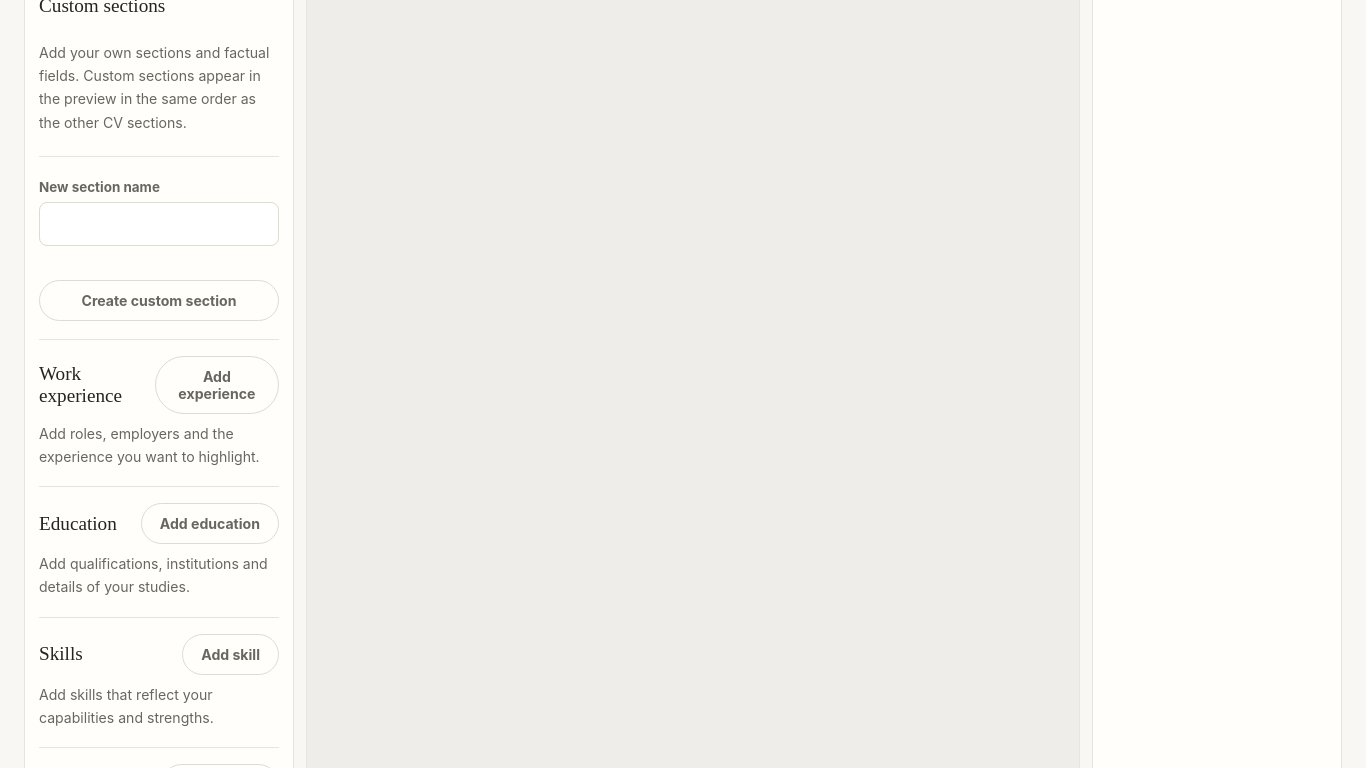
Test: work experience editor › shows field errors and does not save invalid date input
This screenshot has width=1366, height=768.
(page scrolled)
Click the button "Add experience" at (217, 385), box [155, 356, 279, 414]
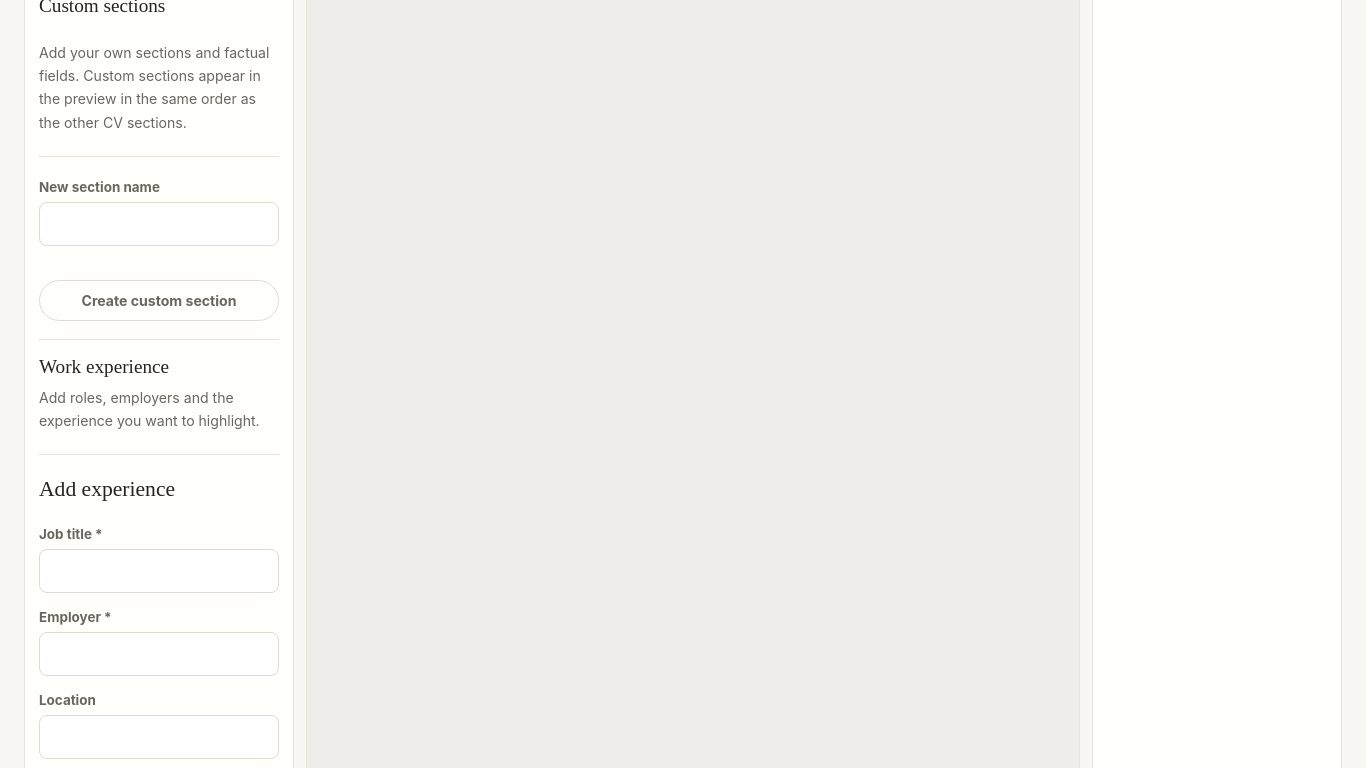
Type "Engineer" into the field labelled "Job title *" at (159, 571), box [39, 549, 279, 593]
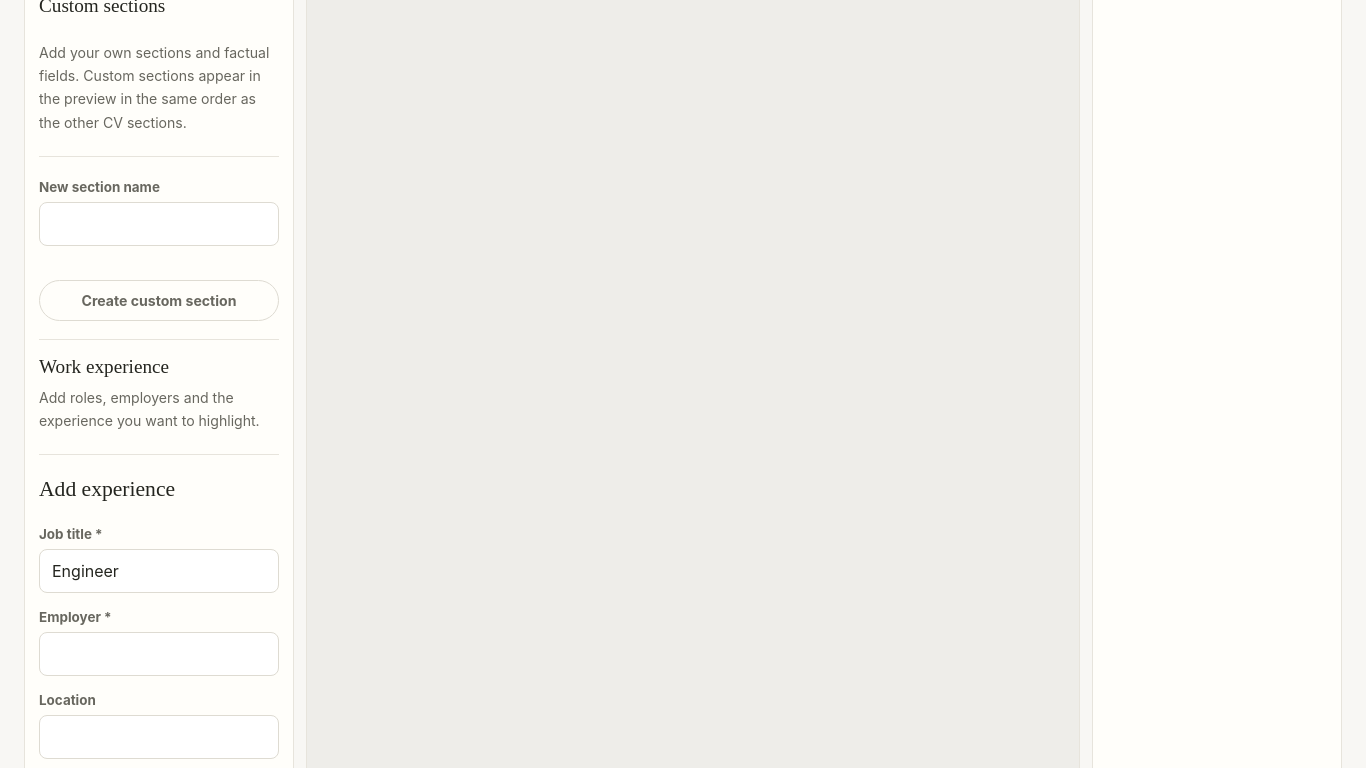
Type "Example" into the field labelled "Employer *" at (159, 654), box [39, 632, 279, 676]
(page scrolled)
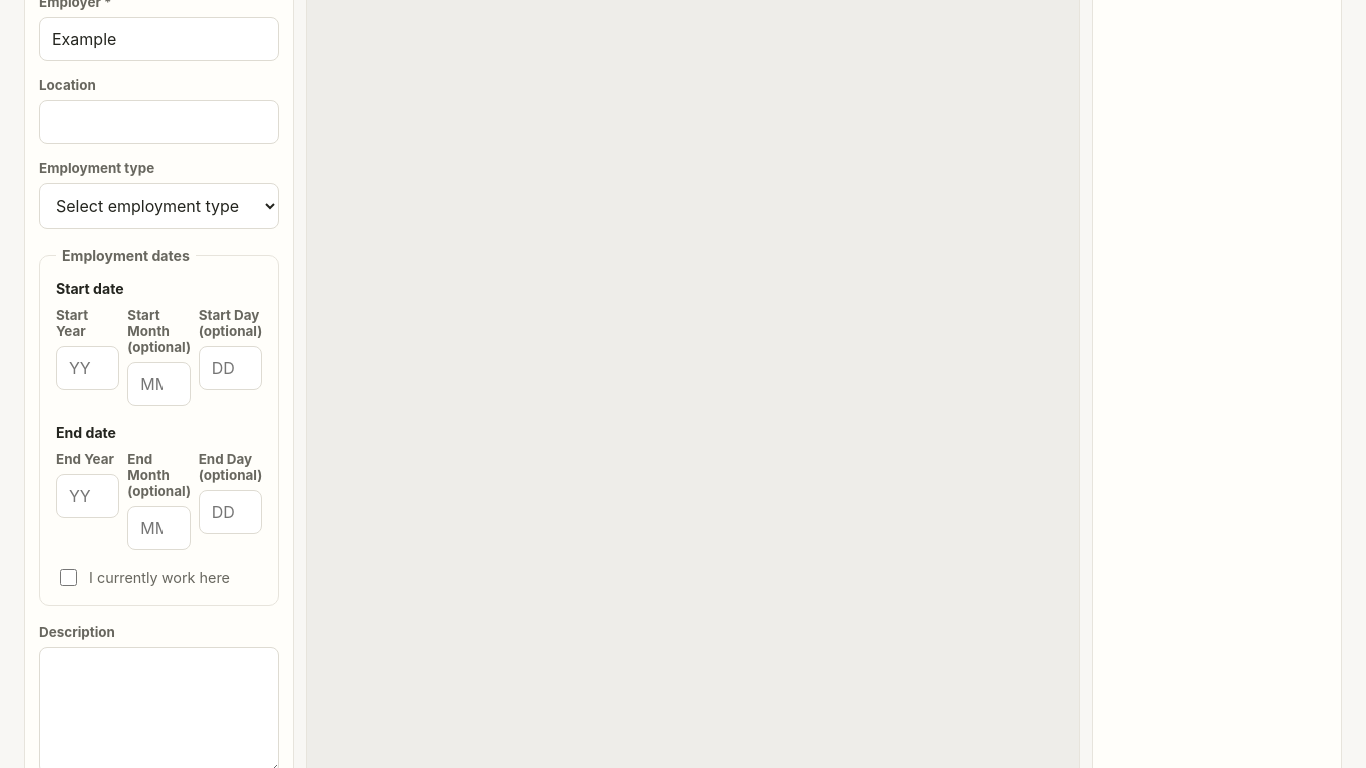
Type "13" into the number field labelled "Start Month (optional)" at (159, 384), box [127, 362, 191, 406]
(page scrolled)
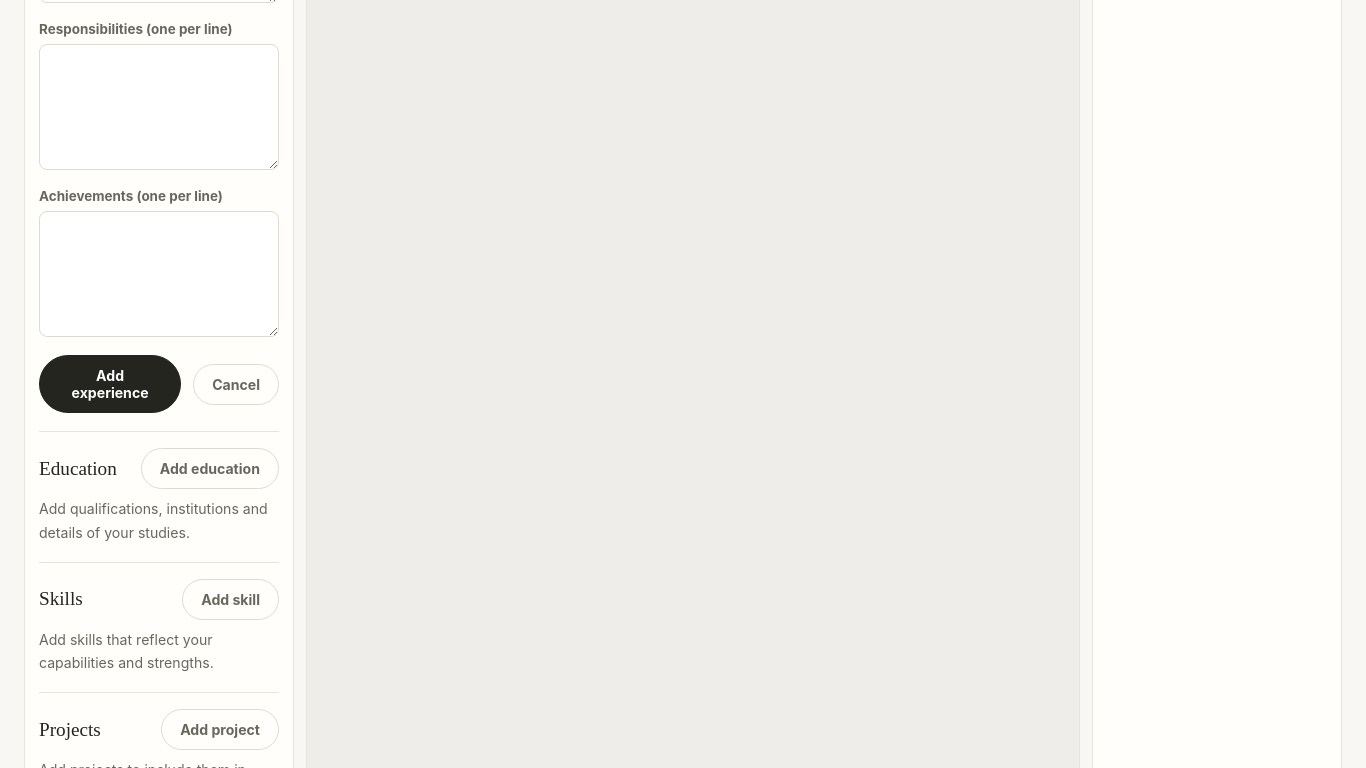
Click the button "Add experience" at (110, 384), box [39, 355, 181, 413]
(page scrolled)
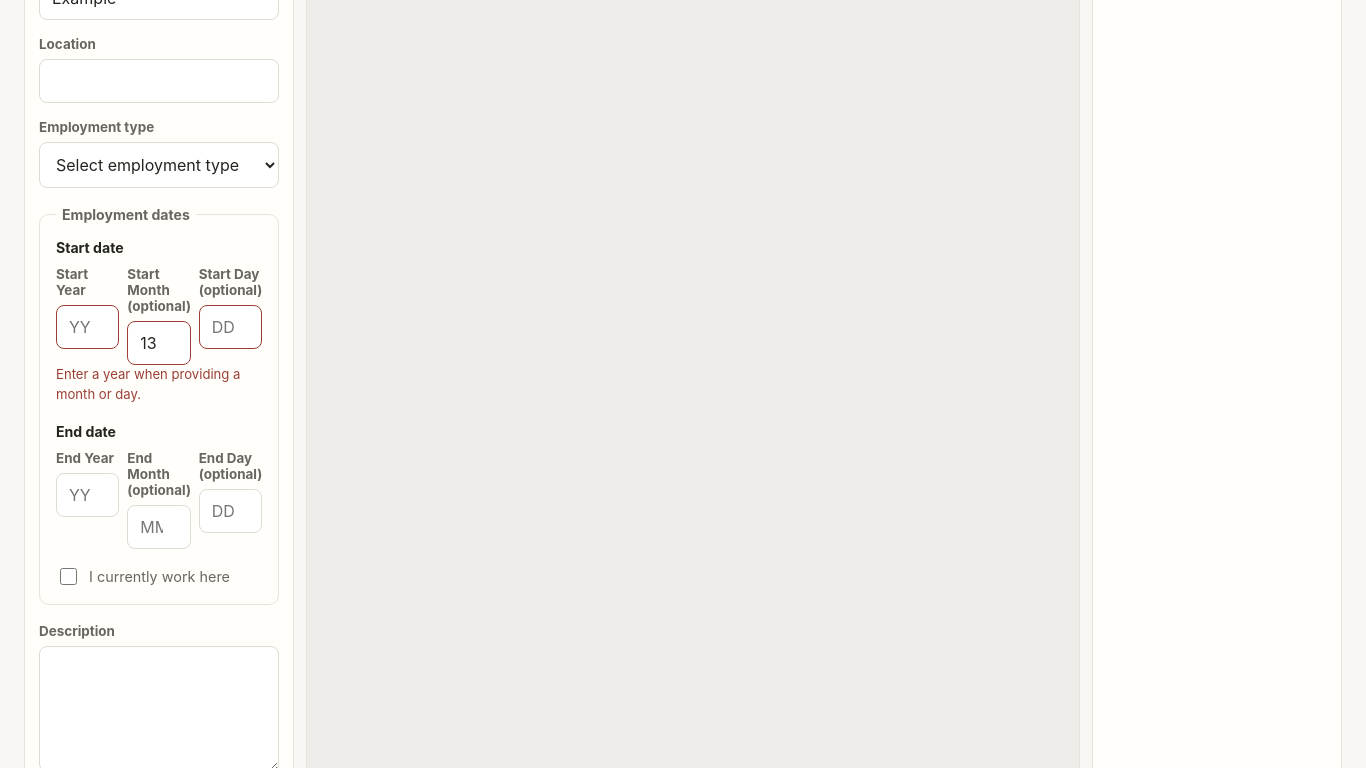
Now the message shows "month", box [56, 366, 240, 402]
